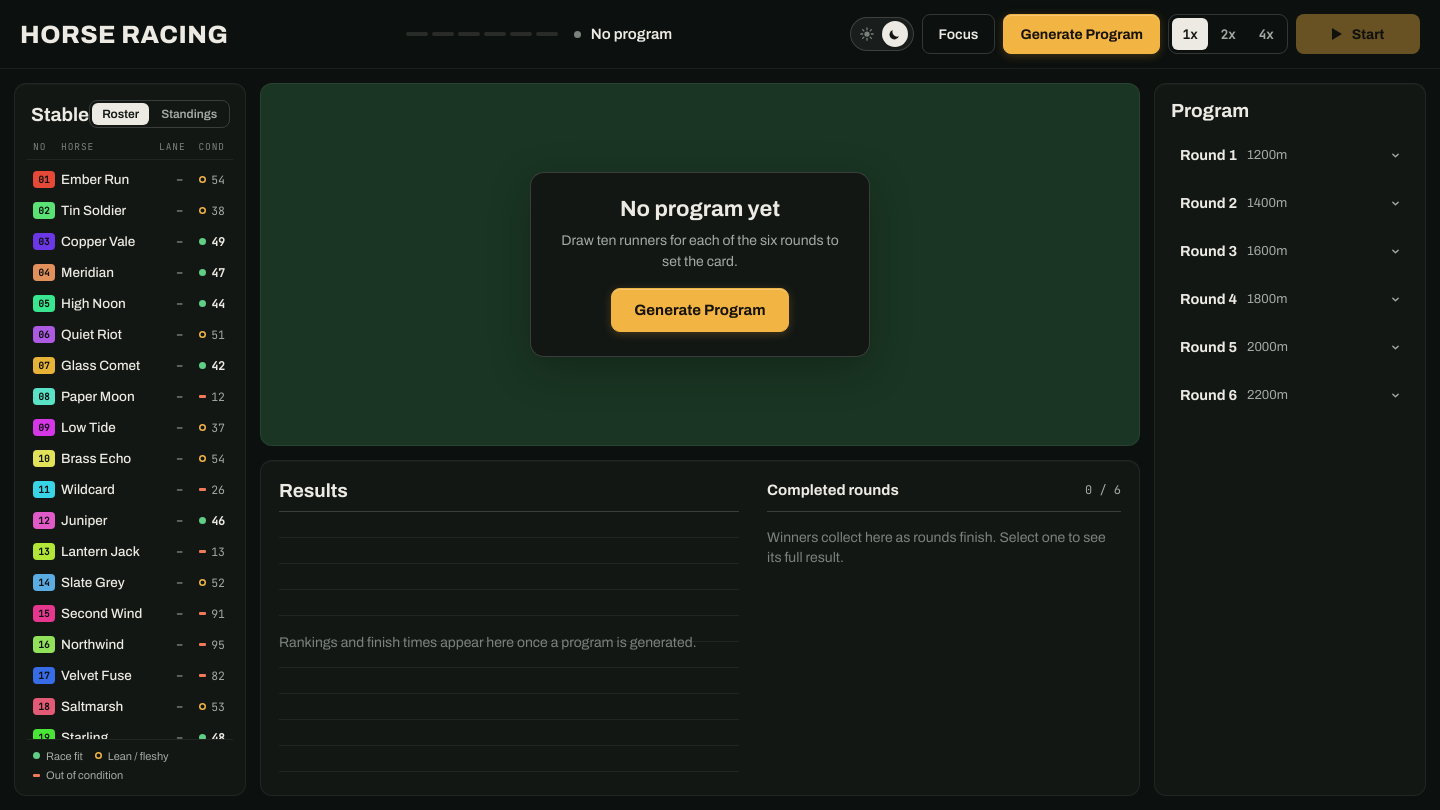
Scenario: App › generates a program from the empty card and enables Start
Click the button "Generate Program" below "No program yet".
click(700, 310)  # box top-left (611, 288), bottom-right (789, 332)
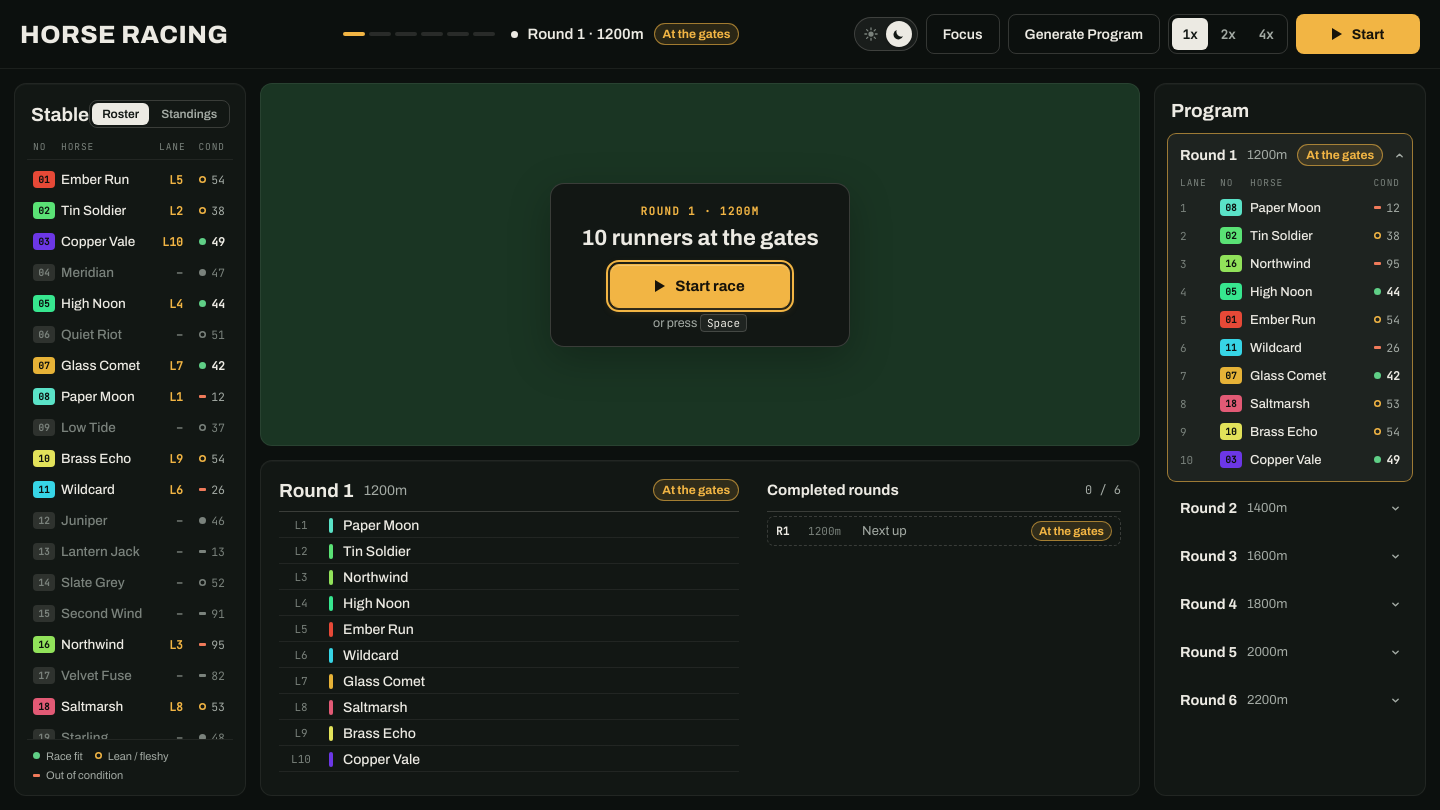
Check: the text "No program yet" is gone
Check: the button "Start" is enabled, box top-left (1296, 14), bottom-right (1420, 54)
Check: the number of buttons with class "round-card__row" is 10
